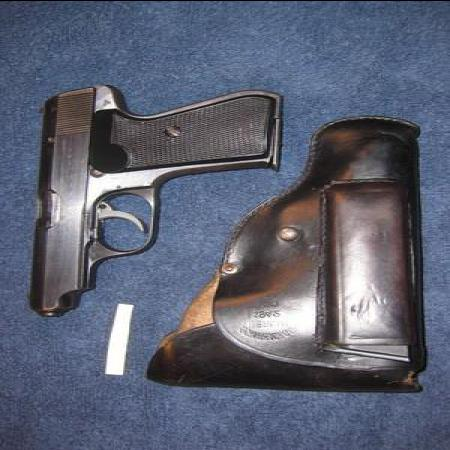Pistol: (24, 81, 284, 316)
